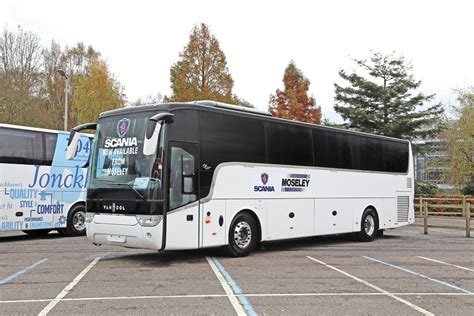bus: (87, 116, 417, 249)
